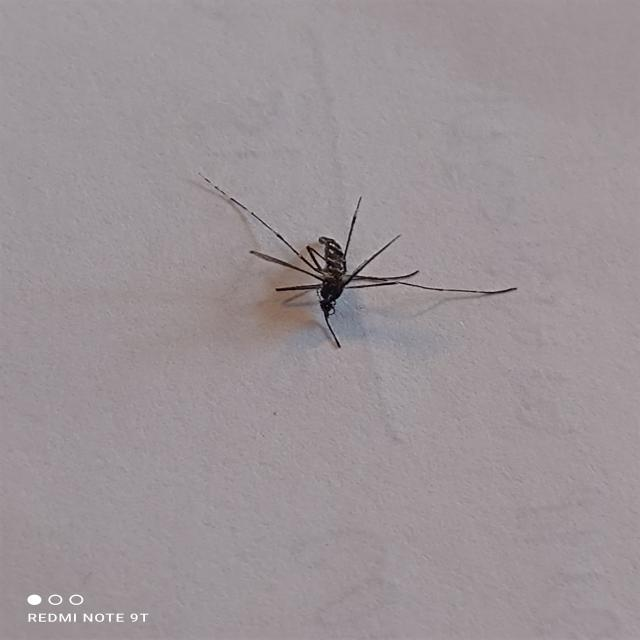albopictus: (183, 170, 512, 350)
